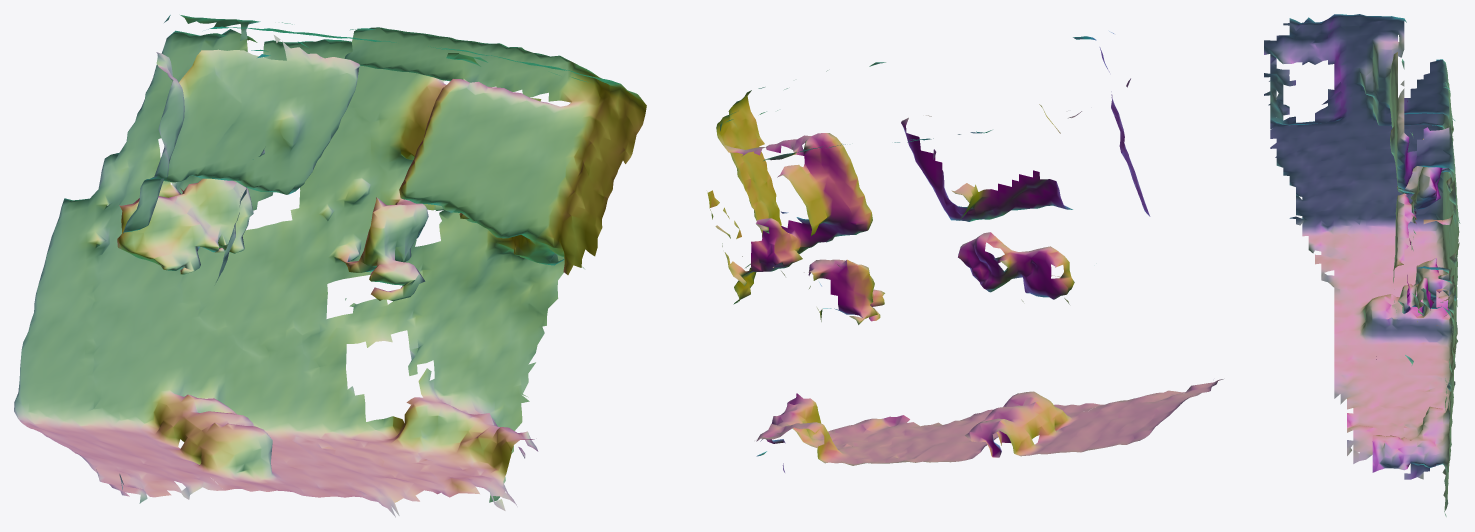
Rendered from voxblox.glb.
3 renders of one model, left to right at view 1: azimuth 30°, elevation 25°; view 2: azimuth 150°, elevation 25°; view 3: azimuth 270°, elevation 25°, orthographic. The views are drawn at different scales.
Bounding box in the file's own units: 5.33 × 5.44 × 2.47.
